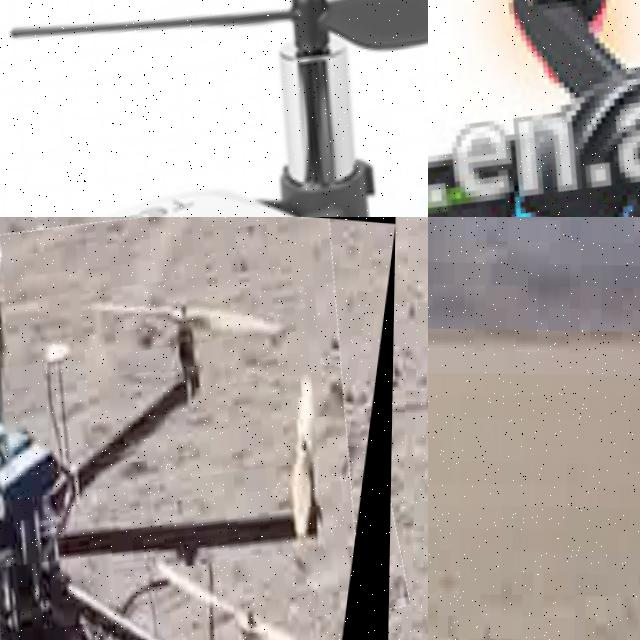0: (0, 217, 395, 640)
drone: (0, 0, 428, 217), (428, 0, 640, 217)
